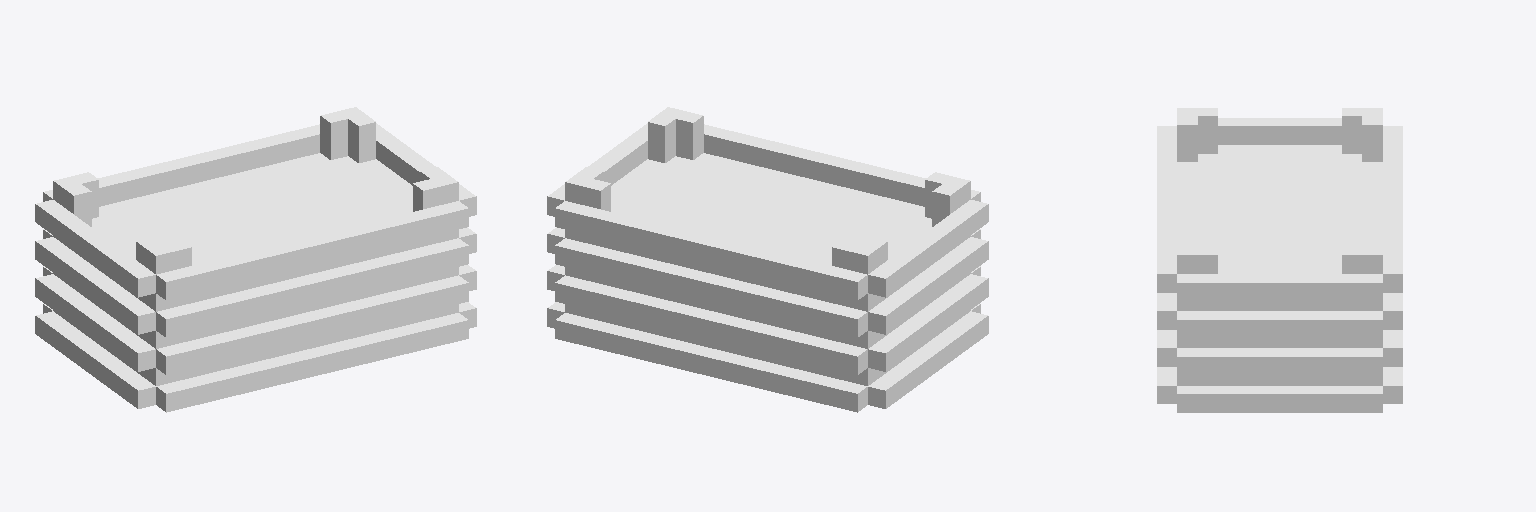
Rendered from Box_Carrots_Level_3.obj.
3 renders of one model, left to right at view 1: azimuth 30°, elevation 25°; view 2: azimuth 150°, elevation 25°; view 3: azimuth 270°, elevation 25°, orthographic.
Parts seen in each view (by area): view 1: Box_Carrots_Level_3; view 2: Box_Carrots_Level_3; view 3: Box_Carrots_Level_3.
Part boxes in pixels (x1,y1,x2,y2): Box_Carrots_Level_3: (35,107,476,412); Box_Carrots_Level_3: (547,107,988,412); Box_Carrots_Level_3: (1157,108,1402,412).
Bounding box in the file's own units: 19 × 8 × 12.